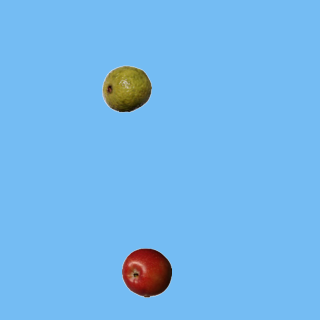Apple Braeburn: (121, 247, 171, 297)
Guava: (101, 63, 151, 113)
